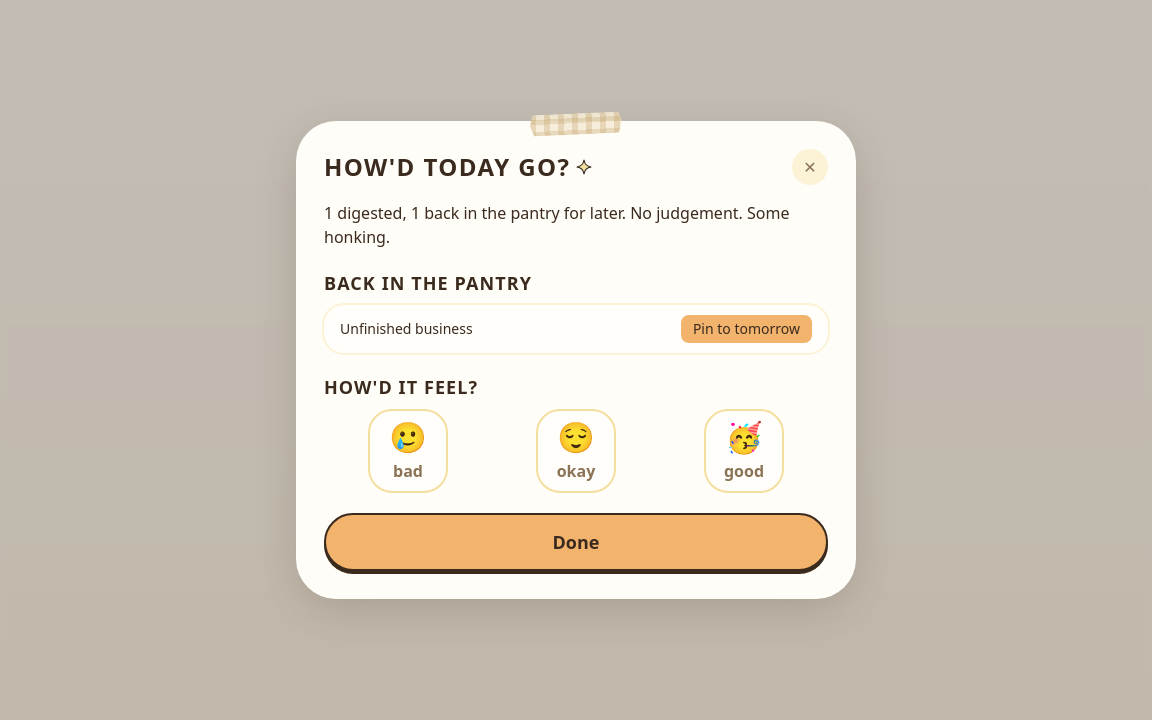
Test: ReflectionSheet › shows the partial-digestion copy with counts, and a pin-to-tomorrow row per pantry task
expect the text "1 digested, 1 back in the pantry for later. No judgement. Some honking." is shown: met, box [324, 201, 828, 249]
expect the text "Unfinished business" is shown: met, box [340, 319, 473, 338]
Click the button "Pin to tomorrow". click: (746, 329)
box: [681, 315, 812, 343]
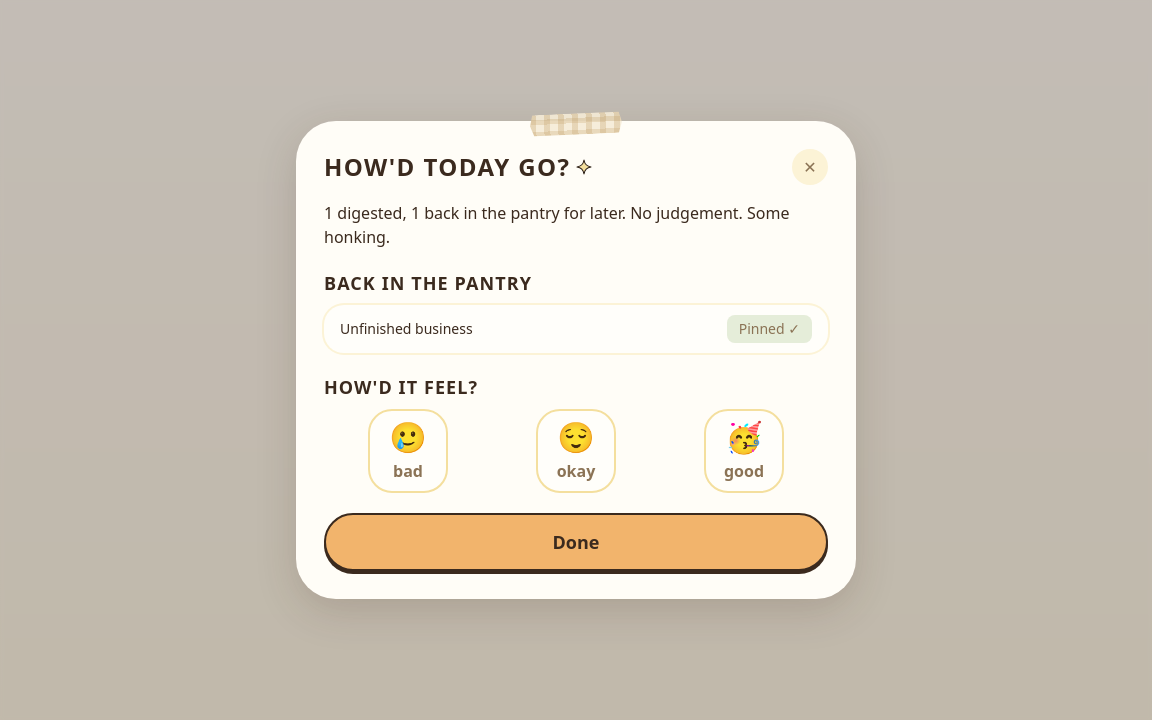
expect the button "Pinned ✓" is disabled: met, box [727, 315, 812, 343]
